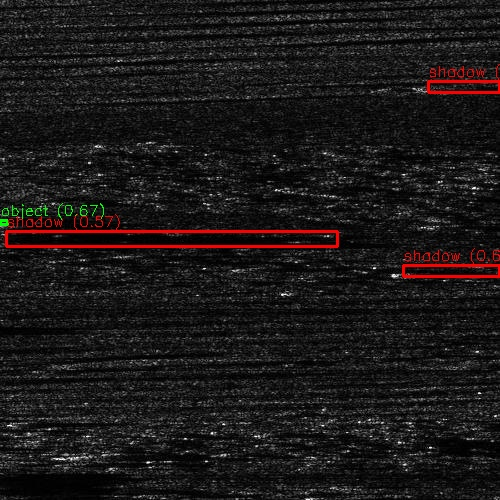rock: (59, 449, 142, 462), (0, 481, 56, 500), (379, 84, 484, 93), (86, 494, 191, 500), (367, 271, 420, 276), (312, 494, 365, 499), (459, 361, 500, 366), (20, 420, 51, 425), (0, 230, 12, 239)
shadow: (0, 230, 325, 239), (0, 480, 188, 495), (101, 449, 242, 462), (0, 481, 80, 500), (139, 494, 386, 500), (0, 469, 69, 480), (432, 84, 500, 93), (394, 271, 500, 276), (339, 494, 445, 499), (0, 321, 39, 332), (36, 420, 82, 425), (0, 443, 21, 446)
